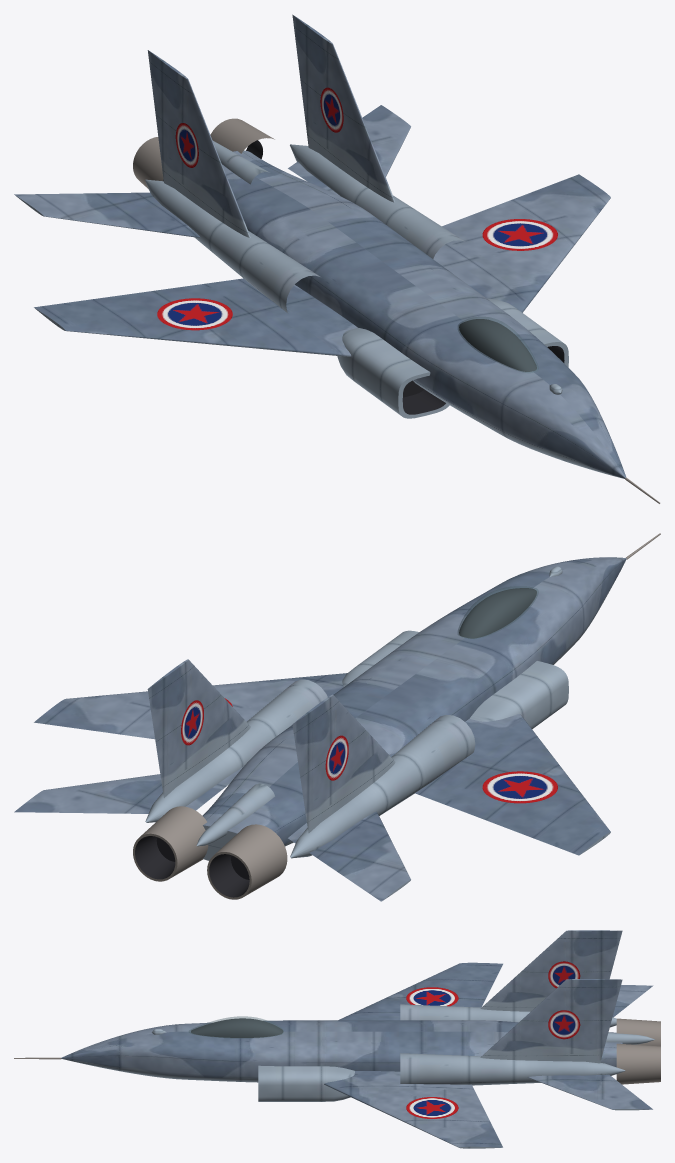
The picture shows the model from 3 angles, top to bottom: view 1: azimuth 30°, elevation 25°; view 2: azimuth 150°, elevation 25°; view 3: azimuth 270°, elevation 25°; orthographic projection. The views are drawn at different scales.
Visible parts, largest first — view 1: Fuselage, Wing0_R, Wing0_L, Fin3_L, Fin3_R, Boom_R, Intake_R, Htail2_R, Boom_L, Canopy, Cockpit, Htail2_L (+8 smaller); view 2: Fuselage, Wing0_R, Fin3_R, Fin3_L, Boom_R, Wing0_L, Boom_L, Htail2_R, Htail2_L, Nozzle_R, Nozzle_L, Intake_R (+7 smaller); view 3: Fuselage, Fin3_L, Wing0_L, Boom_L, Fin3_R, Wing0_R, Intake_L, Htail2_L, Boom_R, Nozzle_L, Canopy, Cockpit (+7 smaller).
Boxes of the visible parts, x1,y1,x2,y2 form: Fuselage: (222,150,626,478); Wing0_R: (34,278,357,356); Wing0_L: (433,174,610,312); Fin3_L: (292,14,395,202); Fin3_R: (147,50,250,237); Boom_R: (145,179,320,312); Intake_R: (337,328,449,418); Htail2_R: (14,192,200,237); Boom_L: (290,144,465,258); Canopy: (458,317,538,372); Cockpit: (459,319,536,371); Htail2_L: (288,105,410,195); Fuselage: (202,557,626,860); Wing0_R: (415,714,610,855); Fin3_R: (292,694,395,833); Fin3_L: (147,659,250,797); Boom_R: (290,715,475,858); Wing0_L: (34,673,347,739); Boom_L: (145,679,327,822); Htail2_R: (288,811,410,901); Htail2_L: (14,767,242,813); Nozzle_R: (207,824,287,899); Nozzle_L: (133,806,208,881); Intake_R: (470,661,568,729); Fuselage: (61,1020,622,1082); Fin3_L: (480,979,622,1063); Wing0_L: (324,1071,502,1148); Boom_L: (400,1053,625,1085); Fin3_R: (480,930,622,1011); Wing0_R: (338,962,502,1020); Intake_L: (258,1065,354,1101); Htail2_L: (528,1074,652,1110); Boom_R: (400,1004,616,1027); Nozzle_L: (616,1043,660,1084); Canopy: (189,1016,283,1038); Cockpit: (191,1018,283,1037).
Size of the model in its own units: 14.7 by 4.55 by 21.85.
Materials: 6 (2 with a texture image).
